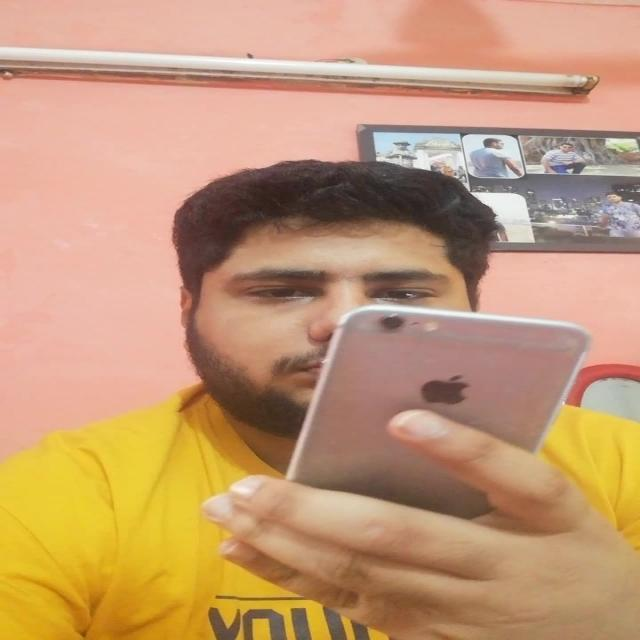Phone: (283, 305, 592, 488)
